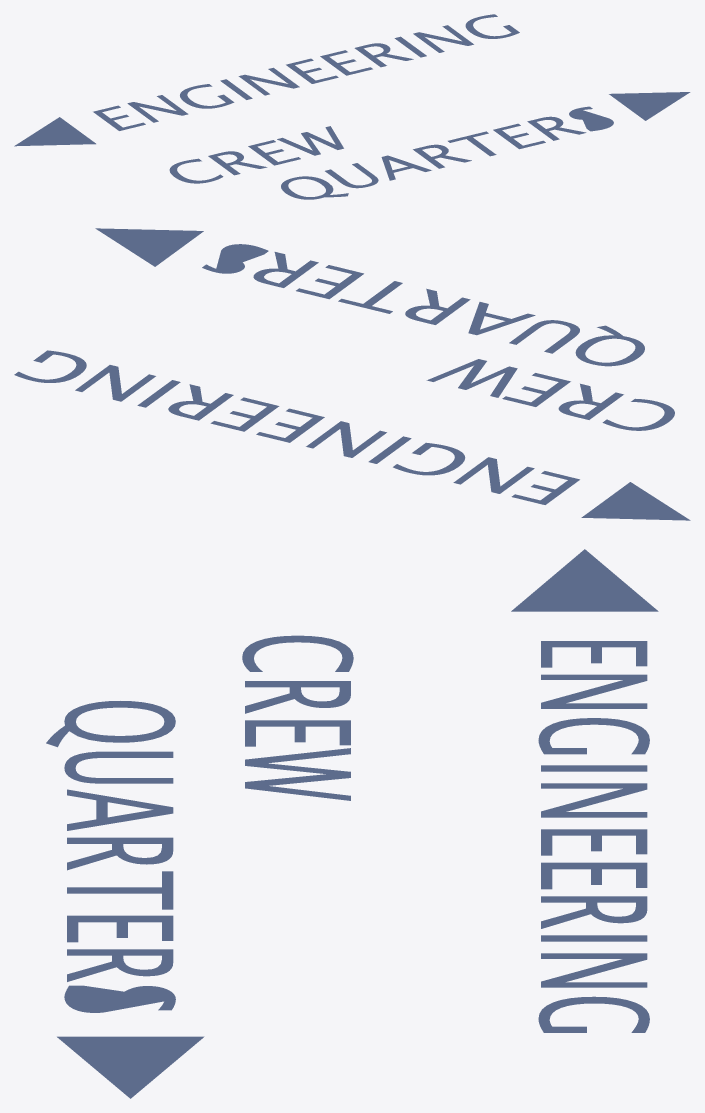
The model's file is Crew_Engineering 1.fbx.
The picture shows the model from 3 angles, top to bottom: view 1: azimuth 30°, elevation 25°; view 2: azimuth 150°, elevation 25°; view 3: azimuth 270°, elevation 25°; orthographic projection. The views are drawn at different scales.
Parts seen in each view (by area): view 1: Crew_Engineering; view 2: Crew_Engineering; view 3: Crew_Engineering.
Part boxes in pixels (left/top/right/bottom): Crew_Engineering: left=14, top=14, right=690, bottom=199; Crew_Engineering: left=14, top=228, right=690, bottom=520; Crew_Engineering: left=46, top=549, right=658, bottom=1098.
Bounding box in the file's own units: 1260 × 6.44e-06 × 594.
